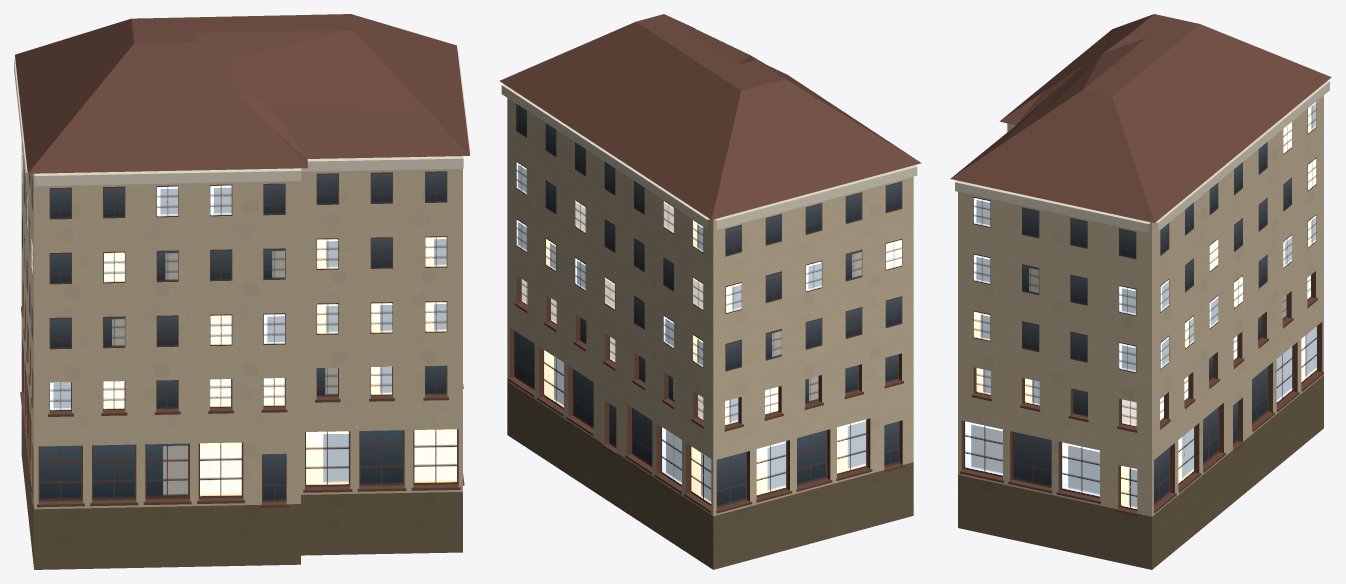
The model's file is z5R2_baden_sw_beige.glb.
3 renders of one model, left to right at view 1: azimuth 30°, elevation 25°; view 2: azimuth 150°, elevation 25°; view 3: azimuth 270°, elevation 25°, orthographic. The views are drawn at different scales.
Parts seen in each view (by area): view 1: z5R2_baden_sw_beige; view 2: z5R2_baden_sw_beige; view 3: z5R2_baden_sw_beige.
Boxes of the visible parts, left/top/right/bottom form: z5R2_baden_sw_beige: left=14, top=14, right=470, bottom=569; z5R2_baden_sw_beige: left=499, top=14, right=921, bottom=569; z5R2_baden_sw_beige: left=950, top=14, right=1331, bottom=569.
Size of the model in its own units: 23.45 by 23.73 by 19.5.
Materials: 3 (3 with a texture image).
